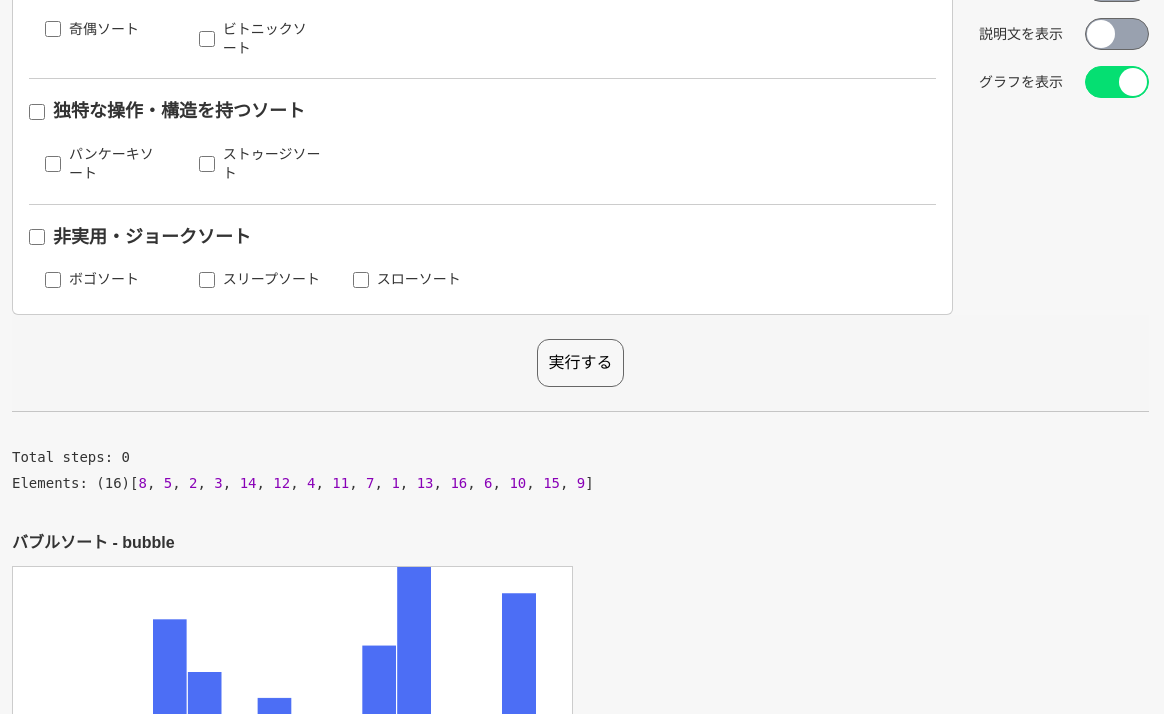
Test case: SortVisualizerContent › 強制終了を押すと「処理中...」を経て「実行する」に戻る
(page scrolled)
Click the button "実行する": [580, 362] box 538,338 -> 624,386
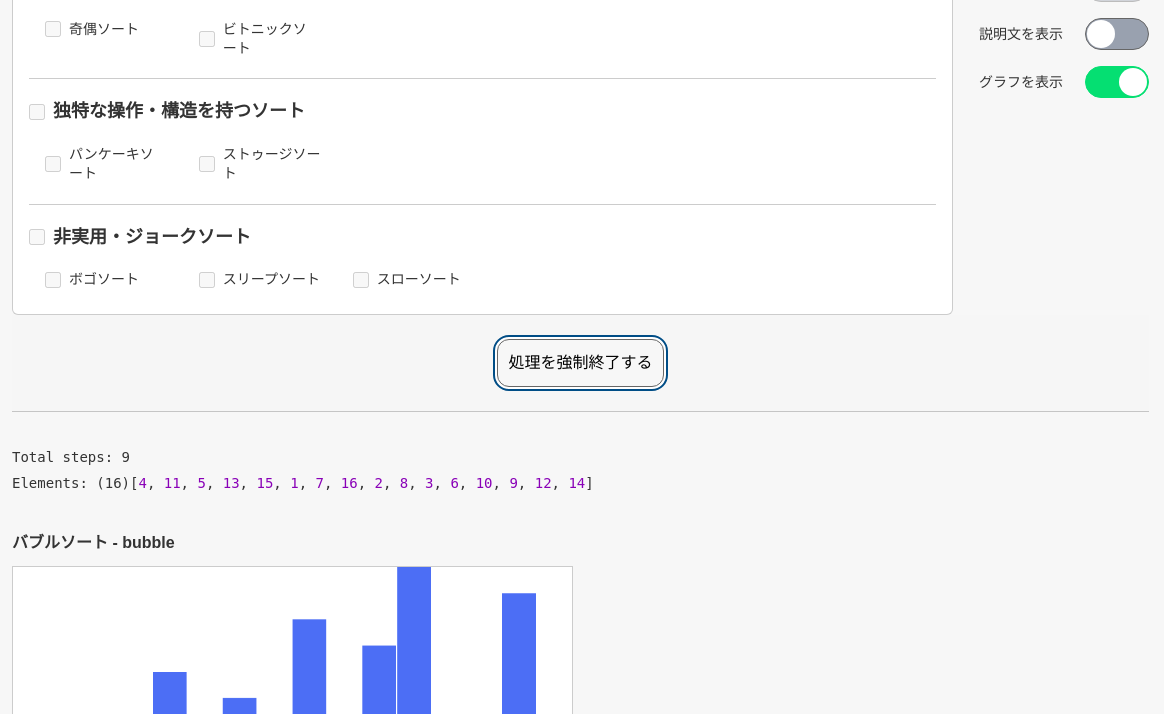
Click the button "処理を強制終了する": [580, 362] box 498,338 -> 664,386
Wait 1000 ms
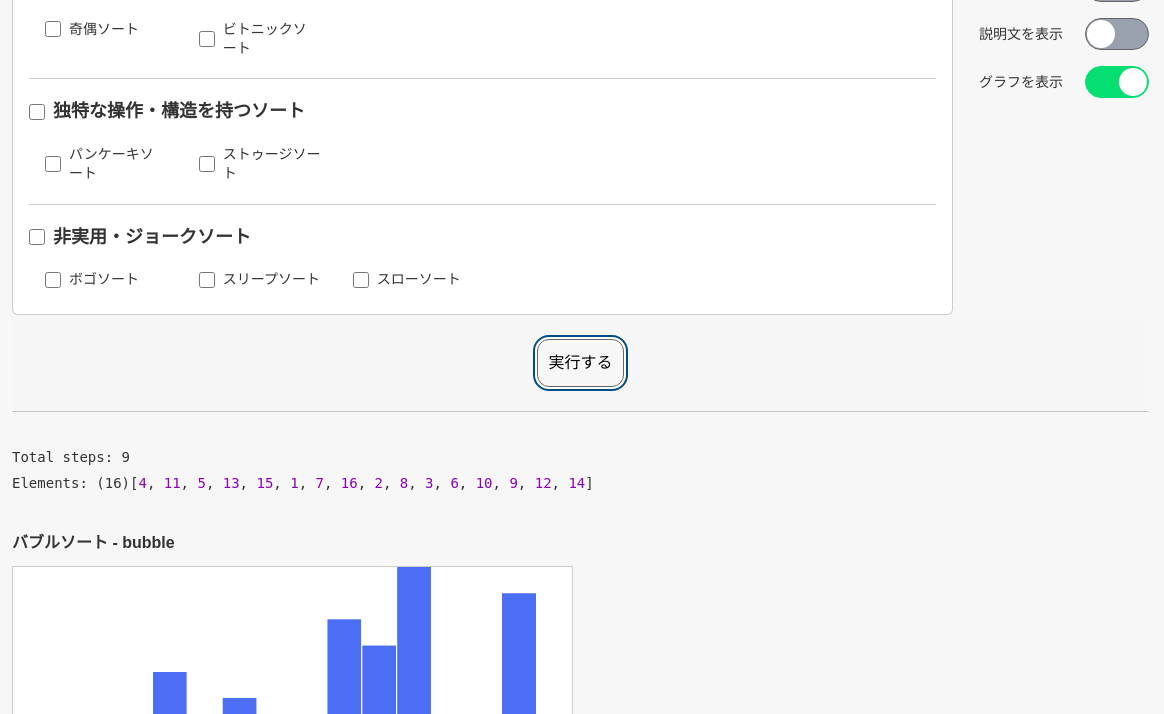
expect the button "実行する" is shown: met, box 538,338 -> 624,386
